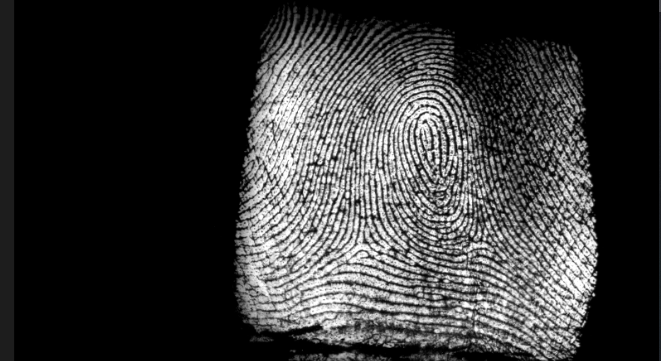nucelo: (416, 115, 434, 156)
verticilo: (478, 230, 500, 258), (350, 235, 373, 256)
